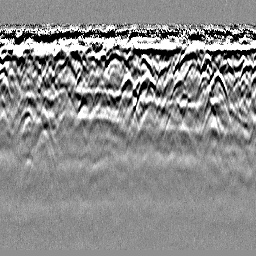cavity: (118, 70, 139, 97)
